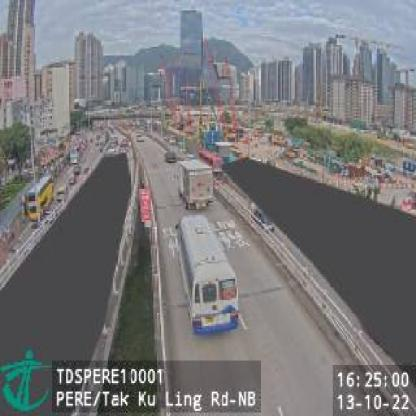Bus: (176, 217, 240, 340), (26, 176, 51, 222)
Car: (54, 183, 68, 203), (165, 150, 177, 165)
Truck: (179, 155, 214, 211)
